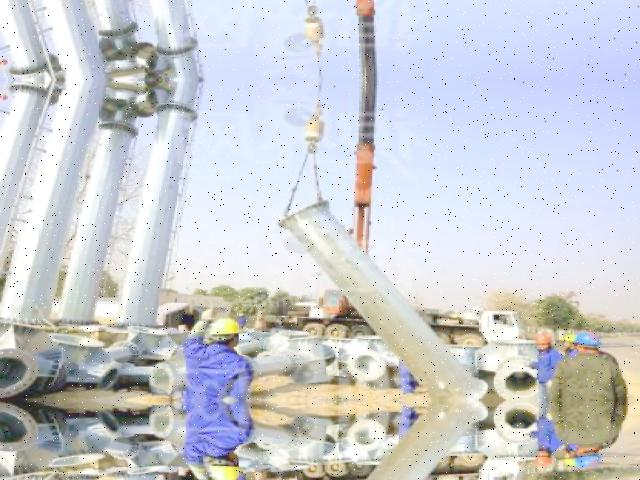Helmet: (206, 312, 250, 338)
